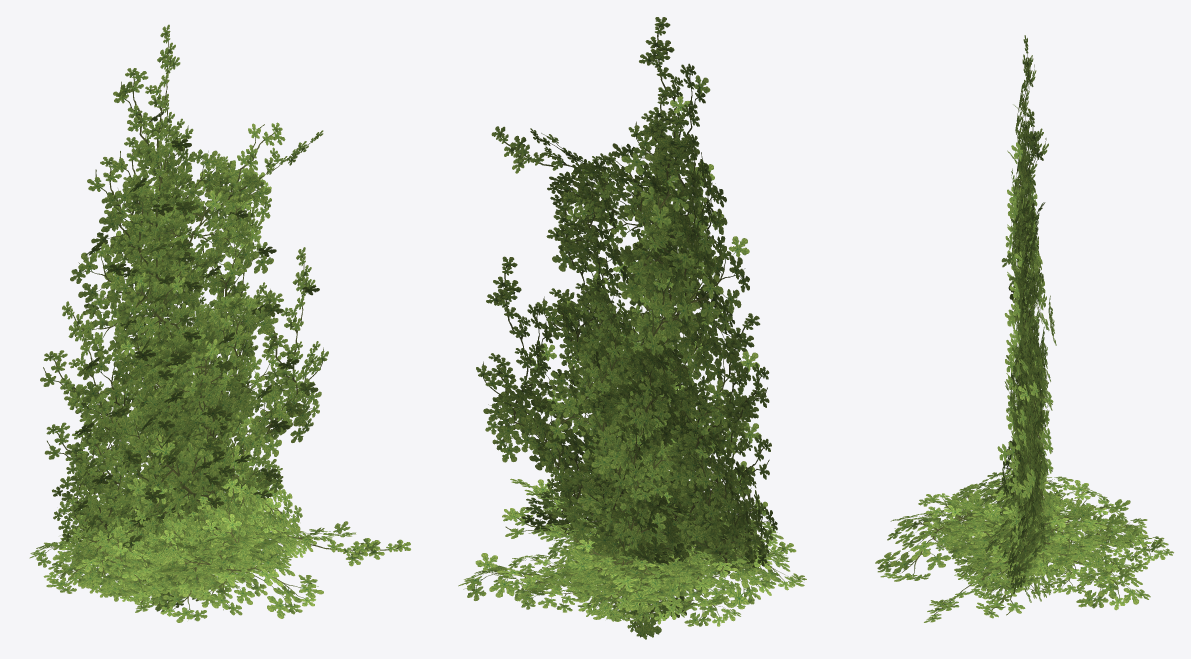
Rendered from LowerIvy.FBX.
3 views of the same model, side by side, from view 1: azimuth 30°, elevation 25°; view 2: azimuth 150°, elevation 25°; view 3: azimuth 270°, elevation 25° (orthographic). The views are drawn at different scales.
Visible parts, largest first — view 1: Ivy2SmallPlaneLongWide, Ivy2BigPlaneIvyLong, Ivy2SmallPlaneWide, Ivy2SmallPlaneLongLong, Ivy2SmallPlaneLongLong001, Ivy2SmallPlaneFlatBig, Ivy2SmallPlaneFlat1, Ivy2SmallPlaneLong; view 2: Ivy2SmallPlaneLongWide, Ivy2SmallPlaneWide, Ivy2BigPlaneIvyLong, Ivy2SmallPlaneFlatBig, Ivy2SmallPlaneLongLong, Ivy2SmallPlaneLongLong001, Ivy2SmallPlaneLong001, Ivy2SmallPlaneFlat1, Ivy2SmallPlaneLong, Ivy2SmallPlaneShort, Ivy2SmallPlaneFlat2; view 3: Ivy2BigPlaneIvyLong, Ivy2SmallPlaneLongWide, Ivy2SmallPlaneFlatBig, Ivy2SmallPlaneWide, Ivy2SmallPlaneFlat1, Ivy2SmallPlaneLongLong, Ivy2SmallPlaneLongLong001, Ivy2SmallPlaneFlat2, Ivy2SmallPlaneLong001, Ivy2SmallPlaneLong.
Boxes of the visible parts, x1=… form: Ivy2SmallPlaneLongWide: x1=40, y1=24, x2=328, y2=604; Ivy2BigPlaneIvyLong: x1=43, y1=116, x2=323, y2=622; Ivy2SmallPlaneWide: x1=44, y1=191, x2=321, y2=606; Ivy2SmallPlaneLongLong: x1=108, y1=94, x2=252, y2=581; Ivy2SmallPlaneLongLong001: x1=106, y1=146, x2=237, y2=611; Ivy2SmallPlaneFlatBig: x1=29, y1=472, x2=300, y2=595; Ivy2SmallPlaneFlat1: x1=79, y1=510, x2=410, y2=612; Ivy2SmallPlaneLong: x1=131, y1=304, x2=234, y2=566; Ivy2SmallPlaneLongWide: x1=476, y1=17, x2=789, y2=581; Ivy2SmallPlaneWide: x1=483, y1=192, x2=771, y2=586; Ivy2BigPlaneIvyLong: x1=491, y1=114, x2=806, y2=590; Ivy2SmallPlaneFlatBig: x1=458, y1=522, x2=776, y2=626; Ivy2SmallPlaneLongLong: x1=569, y1=87, x2=720, y2=567; Ivy2SmallPlaneLongLong001: x1=577, y1=139, x2=721, y2=637; Ivy2SmallPlaneLong001: x1=573, y1=363, x2=691, y2=639; Ivy2SmallPlaneFlat1: x1=502, y1=478, x2=796, y2=621; Ivy2SmallPlaneLong: x1=577, y1=310, x2=708, y2=569; Ivy2SmallPlaneShort: x1=590, y1=453, x2=668, y2=568; Ivy2SmallPlaneFlat2: x1=572, y1=532, x2=713, y2=613; Ivy2BigPlaneIvyLong: x1=875, y1=108, x2=1073, y2=581; Ivy2SmallPlaneLongWide: x1=928, y1=35, x2=1054, y2=592; Ivy2SmallPlaneFlatBig: x1=941, y1=470, x2=1173, y2=610; Ivy2SmallPlaneWide: x1=934, y1=253, x2=1056, y2=604; Ivy2SmallPlaneFlat1: x1=924, y1=493, x2=1148, y2=622; Ivy2SmallPlaneLongLong: x1=986, y1=98, x2=1053, y2=532; Ivy2SmallPlaneLongLong001: x1=1007, y1=150, x2=1053, y2=602; Ivy2SmallPlaneFlat2: x1=975, y1=501, x2=1112, y2=576; Ivy2SmallPlaneLong001: x1=1015, y1=379, x2=1053, y2=601; Ivy2SmallPlaneLong: x1=993, y1=327, x2=1055, y2=555.
Bounding box in the file's own units: 316 × 500 × 255.
